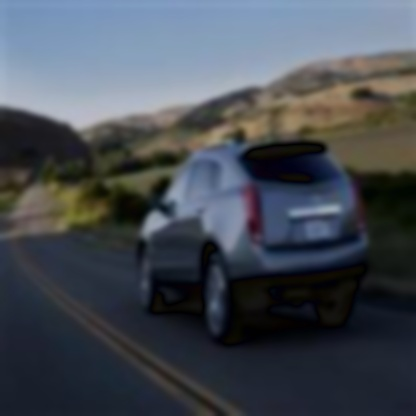Vehicle: (140, 137, 374, 354)
